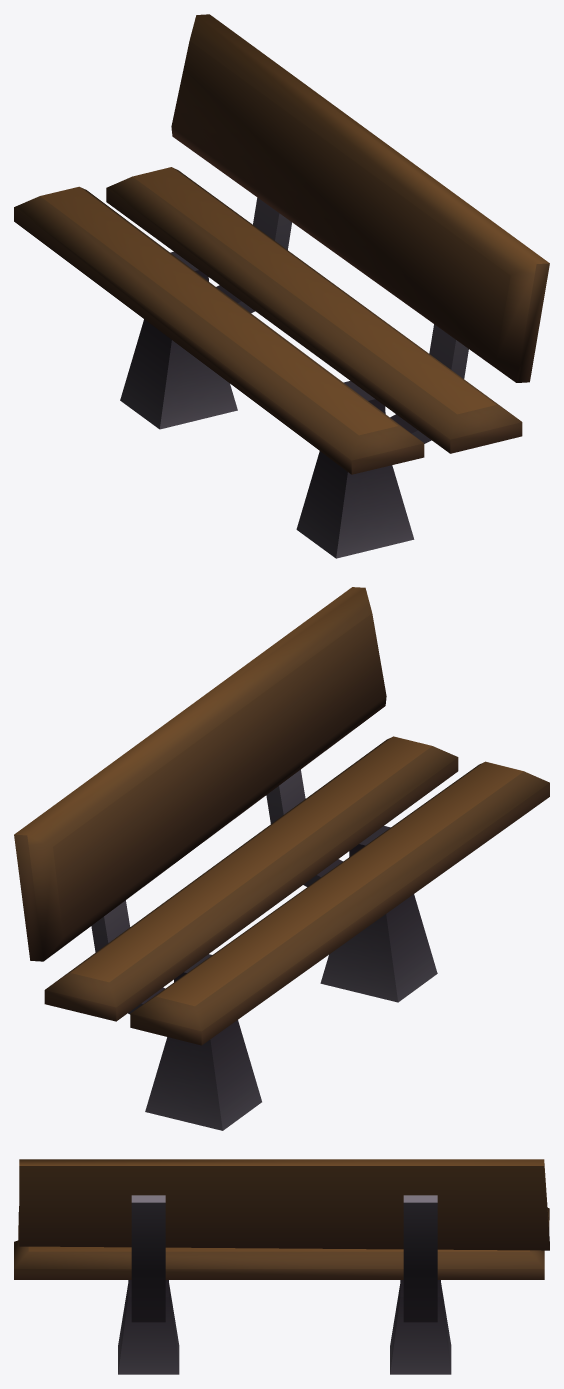
Rendered from Bench_1B.fbx.
3 renders of one model, top to bottom at view 1: azimuth 30°, elevation 25°; view 2: azimuth 150°, elevation 25°; view 3: azimuth 270°, elevation 25°, orthographic. The views are drawn at different scales.
Visible parts, largest first — view 1: Bench_1B; view 2: Bench_1B; view 3: Bench_1B.
Boxes of the visible parts, box(x1,y1,x2,y2) form: Bench_1B: box(14, 14, 549, 558); Bench_1B: box(14, 587, 549, 1130); Bench_1B: box(14, 1159, 549, 1374).
Bounding box in the file's own units: 0.9415 × 1.35 × 2.76.
